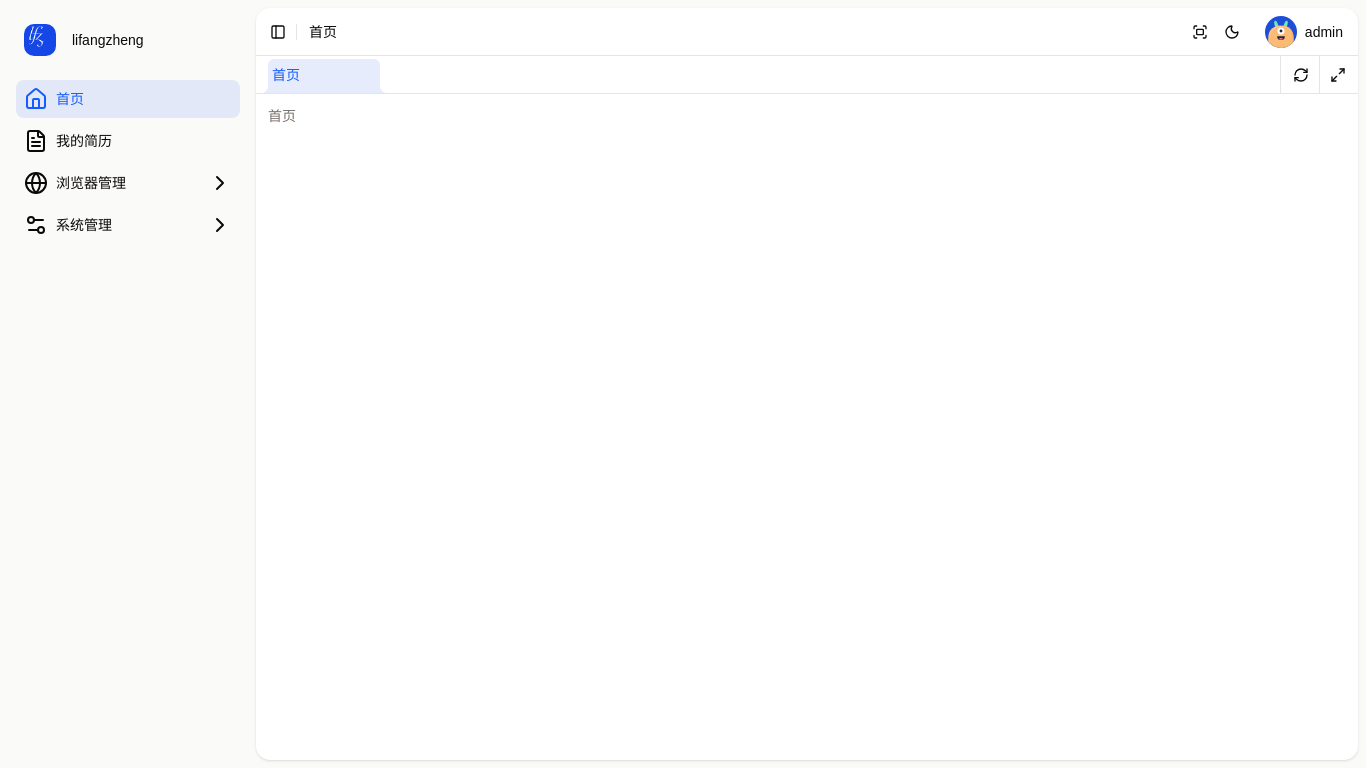
Test: Header › 点击个人中心弹出当前用户信息弹窗
Check: the button named "全屏" is shown, box [1186,18,1214,46]
Click the button "admin" at (1304, 32), box [1258,14,1350,50]
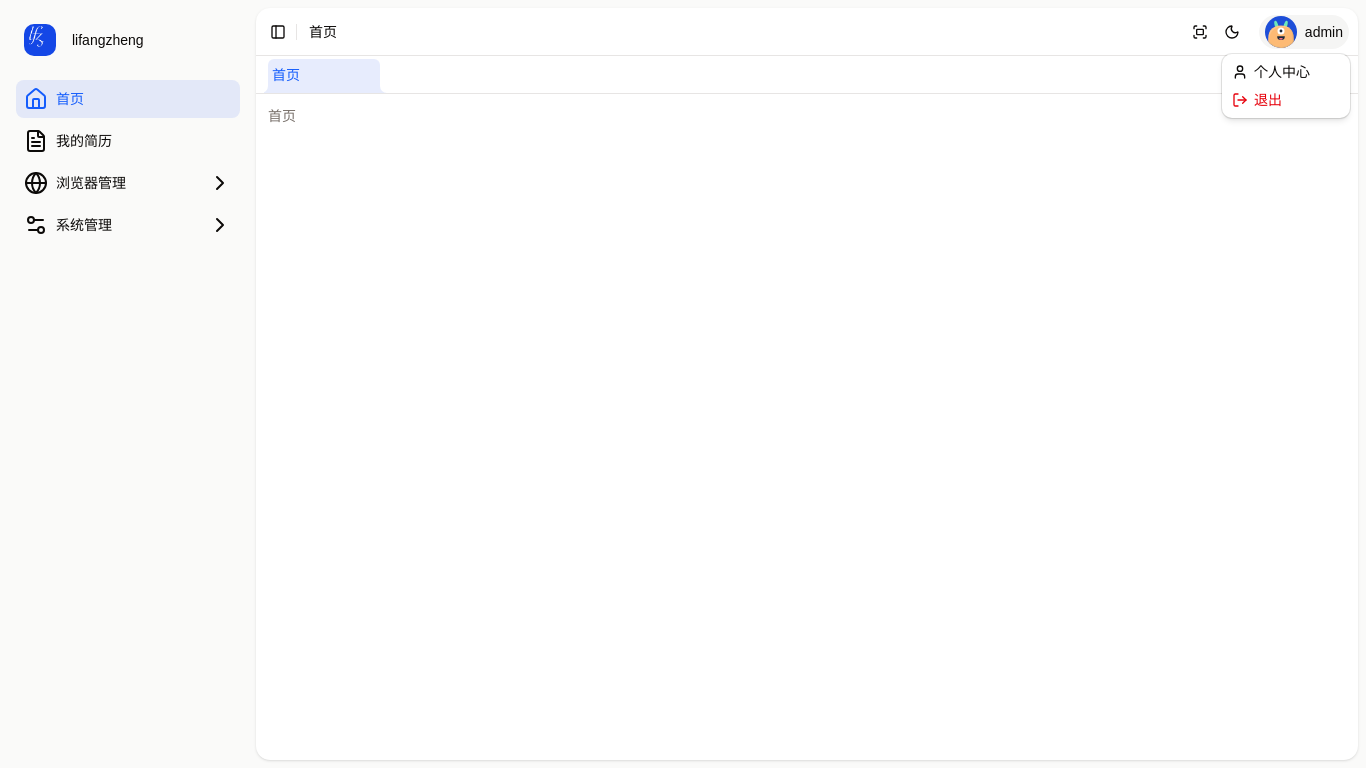
// 点击个人中心菜单项
Click the menu item "个人中心" at (1271, 72), box [1232,64,1310,80]
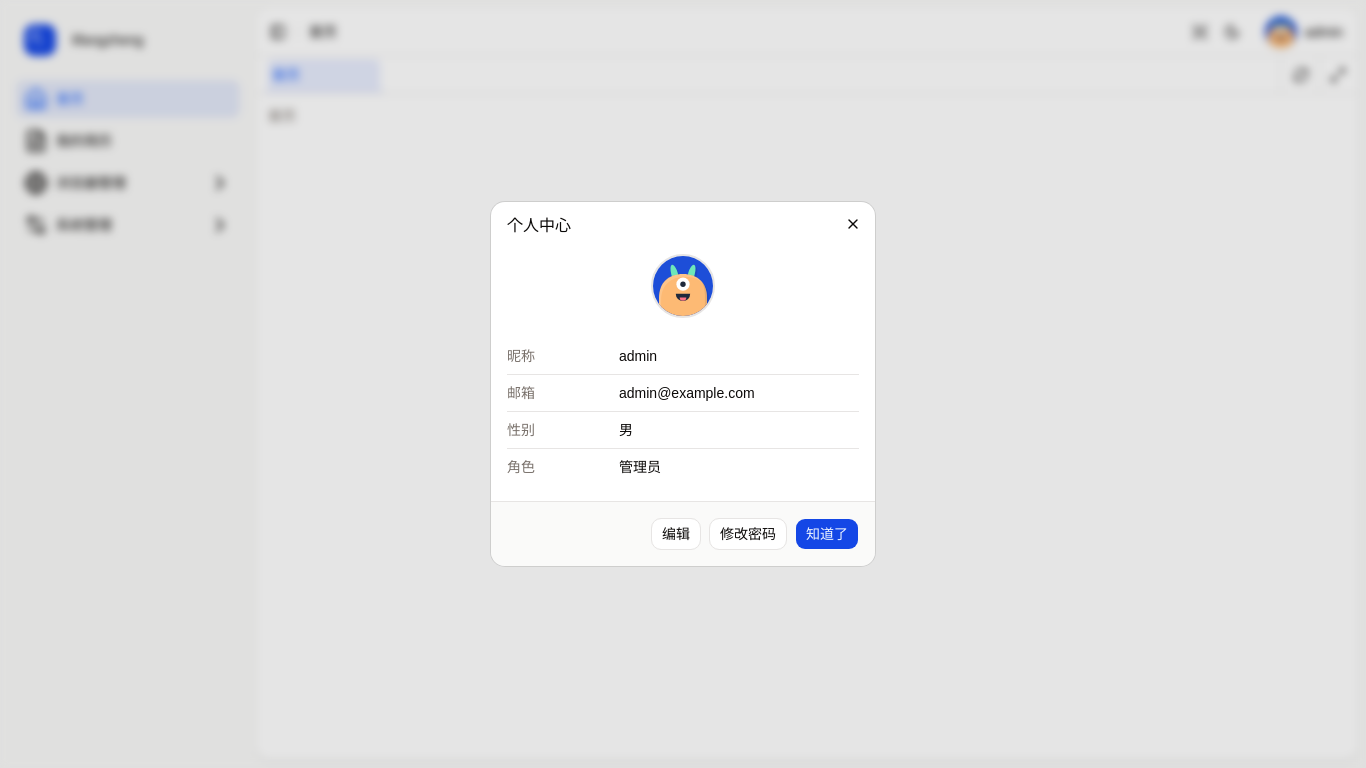
Check: the dialog shows "个人中心", box [507,217,571,234]
Check: the dialog shows "admin@example.com", box [619,385,755,401]
Check: the dialog shows "管理员", box [619,459,661,475]
